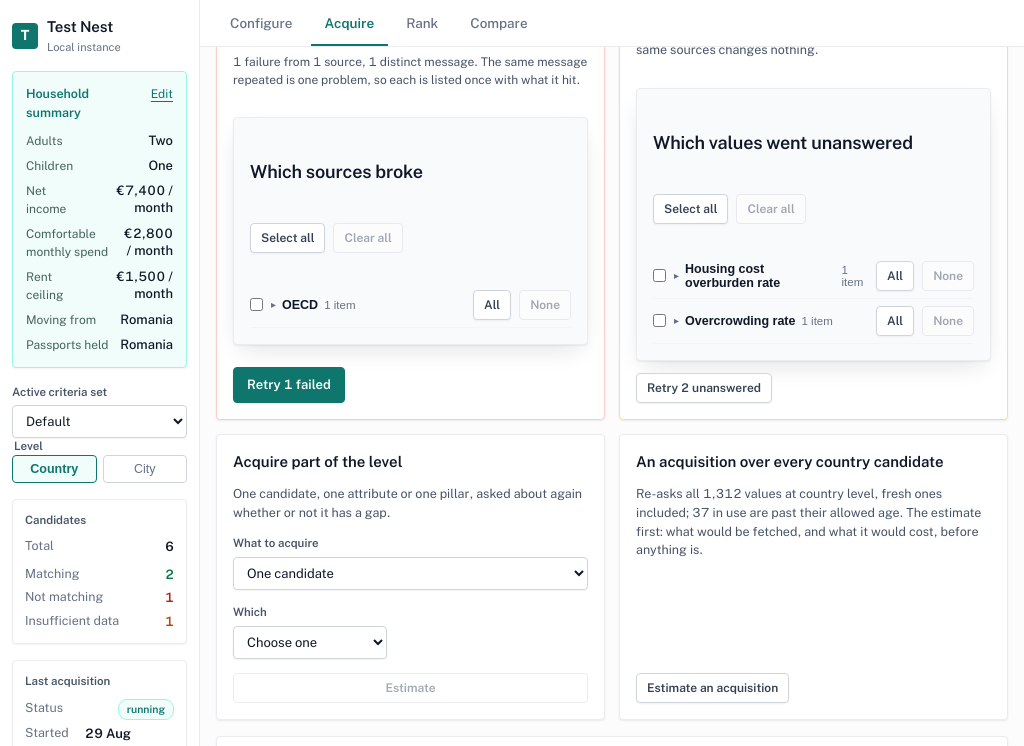
Test: starting while an acquisition is in flight › holds the armed strip's Yes too
(page scrolled)
Step 1. Click the button "Retry 1 failed" → [289, 385], box [233,367,345,403]
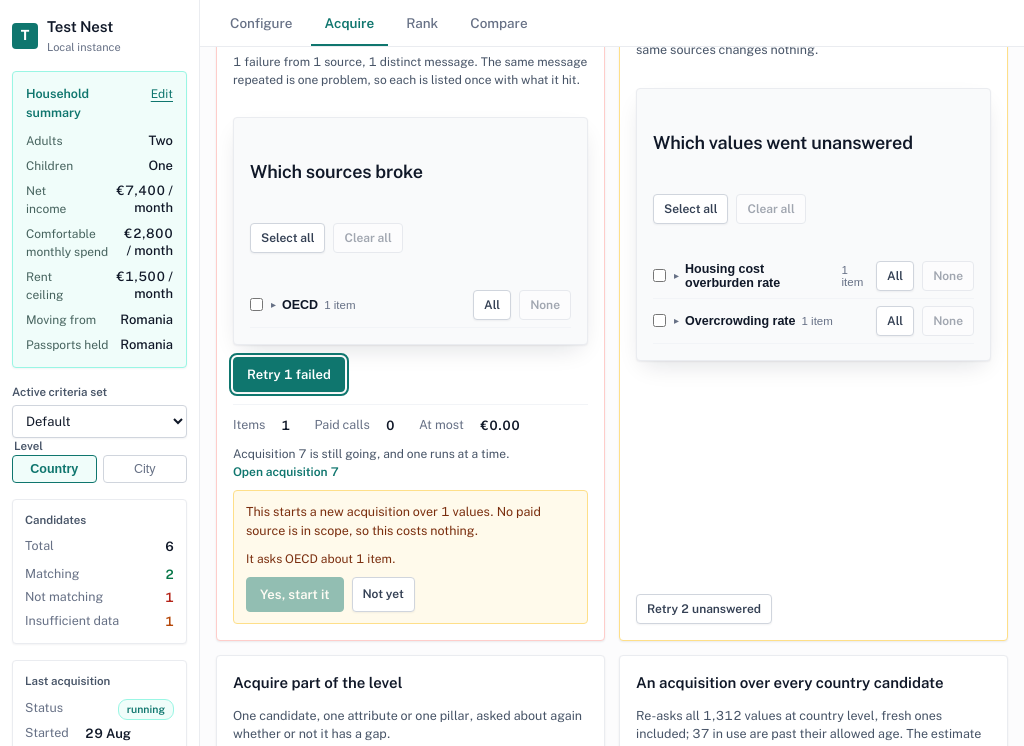
Result: the button "Yes, start it" is enabled at [246,577,344,612]
